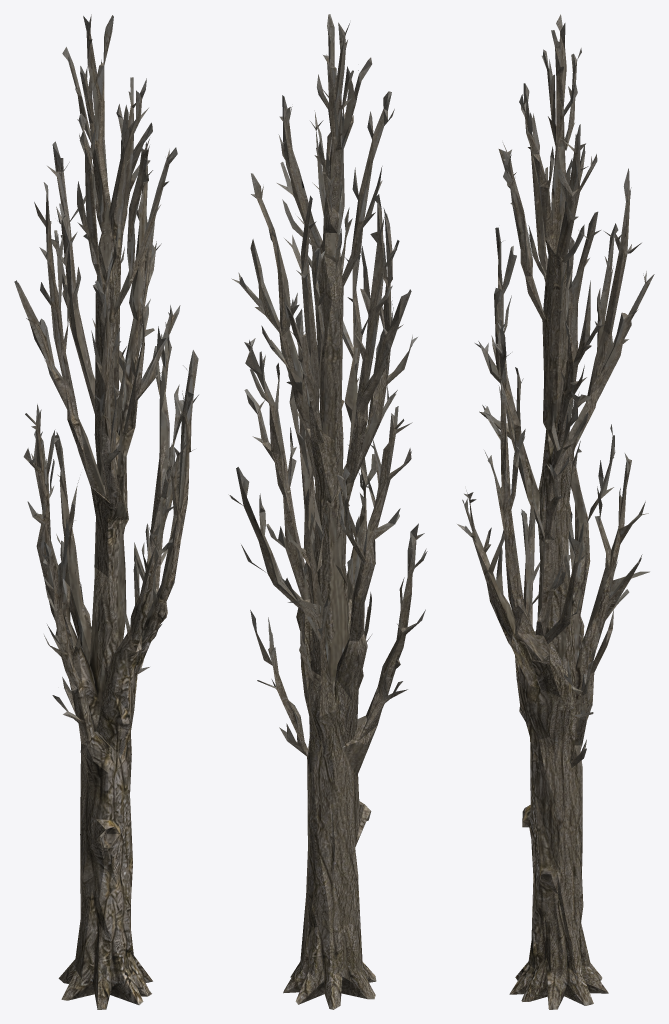
File: trunk.glb
3 views of the same model, side by side, from view 1: azimuth 30°, elevation 25°; view 2: azimuth 150°, elevation 25°; view 3: azimuth 270°, elevation 25° (orthographic).
Visible parts, largest first — view 1: output_unwrapped; view 2: output_unwrapped; view 3: output_unwrapped.
Boxes of the visible parts, x1,y1,x2,y2 form: output_unwrapped: (14,14,198,1009); output_unwrapped: (228,14,427,1009); output_unwrapped: (457,14,654,1009).
Bounding box in the file's own units: 0.362 × 1.9 × 0.3537.
1 material, 1 textured.
